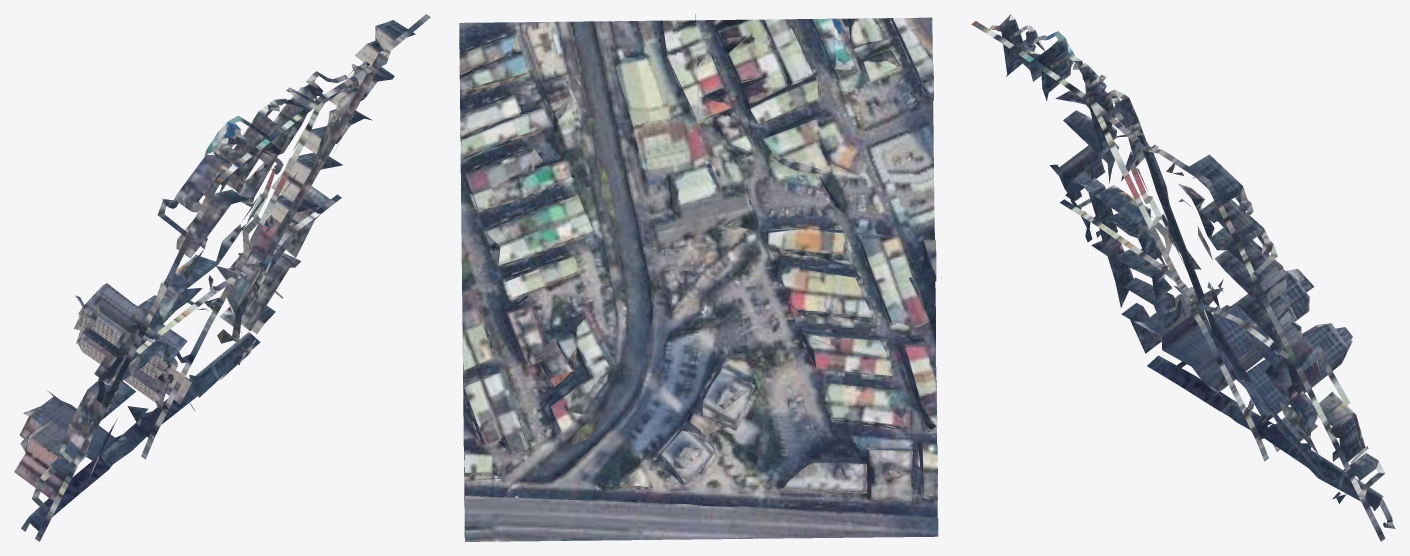
3 renders of one model, left to right at view 1: azimuth 30°, elevation 25°; view 2: azimuth 150°, elevation 25°; view 3: azimuth 270°, elevation 25°, orthographic. The views are drawn at different scales.
Size of the model in its own units: 310 by 288 by 264.
1 material, 1 textured.
